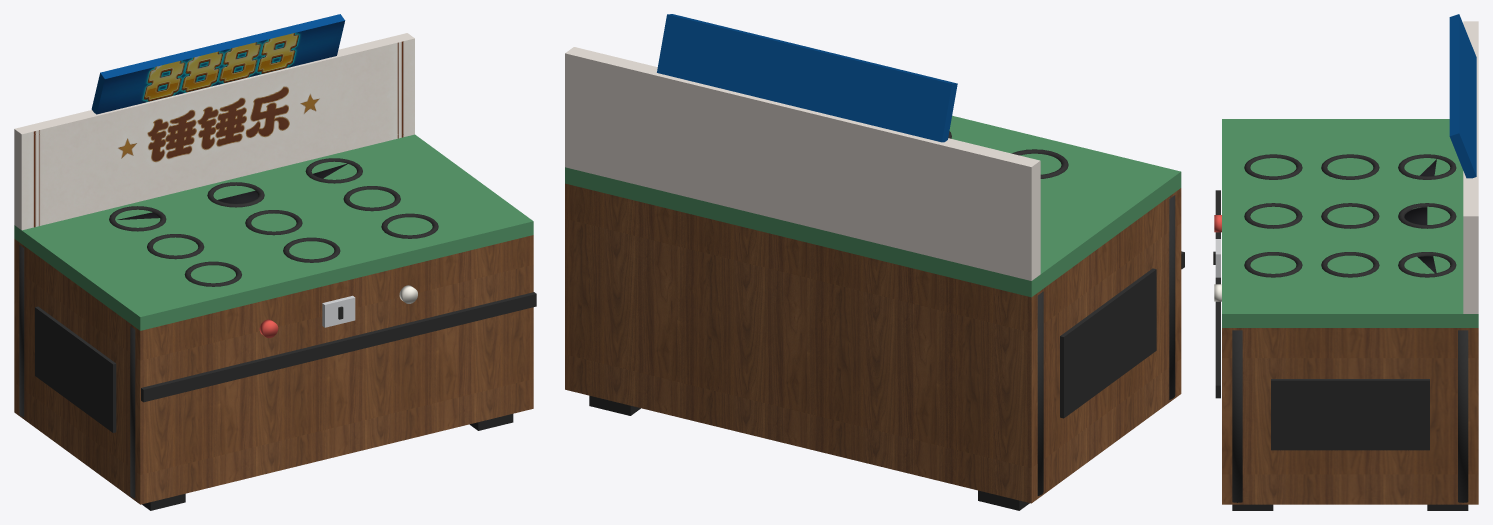
File: WhackAMoleArcade.fbx
3 renders of one model, left to right at view 1: azimuth 30°, elevation 25°; view 2: azimuth 150°, elevation 25°; view 3: azimuth 270°, elevation 25°, orthographic. The views are drawn at different scales.
Visible parts, largest first — view 1: Body, TopPlate, Marquee, TopScreen, FrontStripe, SideStripe_L, CornerPost_0, CornerPost_2, CoinSlot, HoleRim_0, HoleRim_1; view 2: Body, Marquee, TopPlate, TopScreen, SideStripe_L, CornerPost_2, CornerPost_0; view 3: TopPlate, Body, SideStripe_R, TopScreen, Marquee, CornerPost_3, CornerPost_1, FrontStripe, HoleRim_1, HoleRim_2, HoleRim_8, HoleRim_5 (+6 smaller).
Boxes of the visible parts, box(x1,y1,x2,y2) form: Body: box(14, 235, 533, 504); TopPlate: box(14, 134, 533, 330); Marquee: box(14, 33, 414, 230); TopScreen: box(91, 14, 345, 114); FrontStripe: box(141, 292, 536, 402); SideStripe_L: box(35, 306, 116, 432); CornerPost_0: box(19, 245, 24, 417); CornerPost_2: box(130, 326, 135, 498); CoinSlot: box(322, 295, 355, 327); HoleRim_0: box(109, 206, 166, 231); HoleRim_1: box(207, 182, 264, 207); Body: box(565, 183, 1181, 503); Marquee: box(565, 47, 1040, 280); TopPlate: box(565, 115, 1181, 297); TopScreen: box(657, 14, 957, 142); SideStripe_L: box(1060, 268, 1156, 418); CornerPost_2: box(1169, 195, 1175, 399); CornerPost_0: box(1037, 291, 1043, 495); TopPlate: box(1222, 119, 1478, 327); Body: box(1222, 328, 1478, 504); SideStripe_R: box(1271, 379, 1429, 450); TopScreen: box(1449, 14, 1476, 178); Marquee: box(1463, 21, 1478, 313); CornerPost_3: box(1232, 330, 1242, 502); CornerPost_1: box(1458, 330, 1468, 502); FrontStripe: box(1215, 190, 1220, 398); HoleRim_1: box(1398, 203, 1456, 228); HoleRim_2: box(1398, 252, 1456, 277); HoleRim_8: box(1244, 252, 1302, 277); HoleRim_5: box(1321, 252, 1379, 277).
Bounding box in the file's own units: 183 × 149 × 103.
10 materials, 3 textured.
